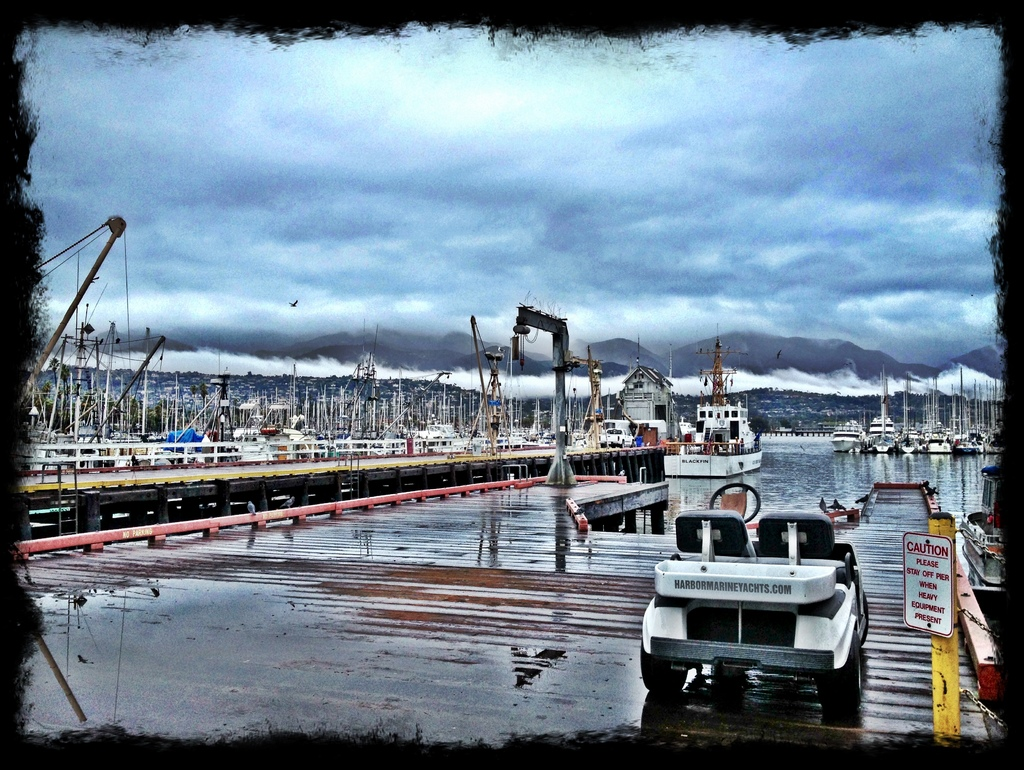Car: (640, 521, 879, 713)
